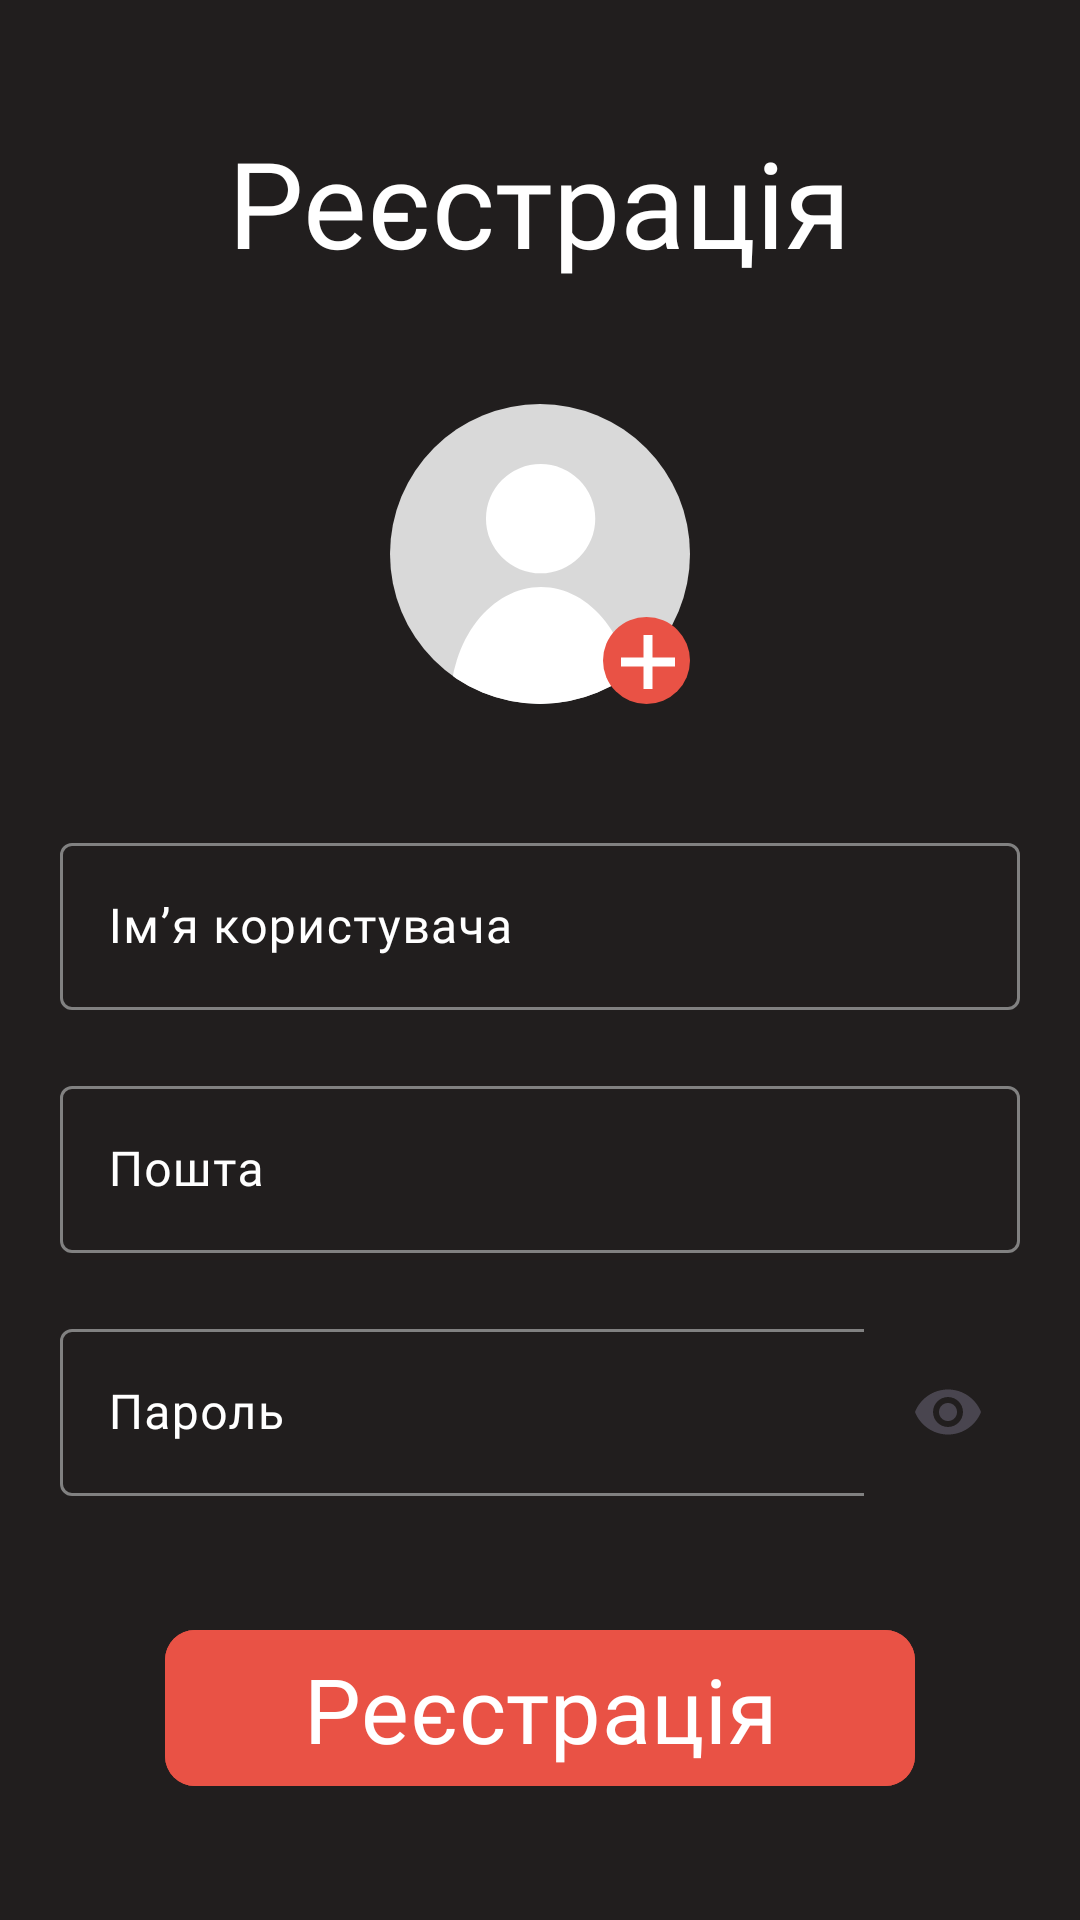

Screen size 1080×1920. Icon name, then its center in pixels as (x=x, y=y):
profileicon: (x=540, y=554)
